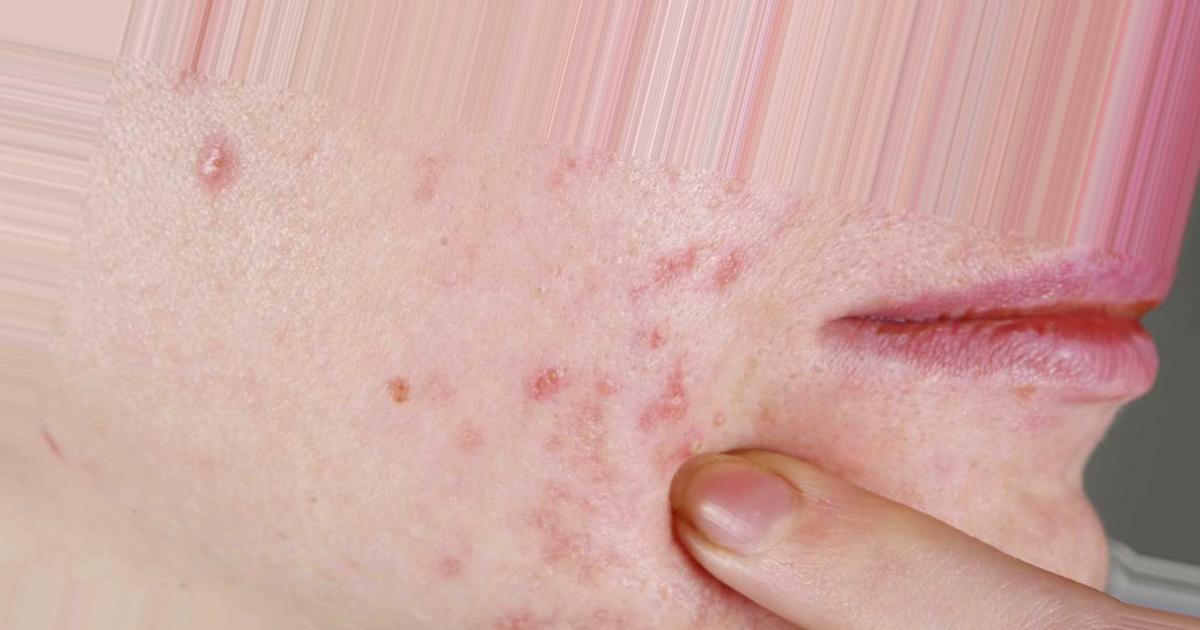Acne: (196, 157, 892, 572)
